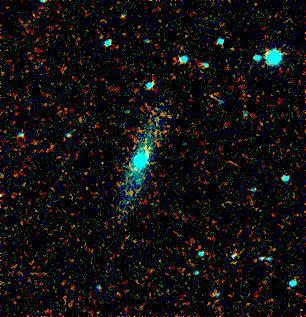star: (133, 135, 163, 165)
